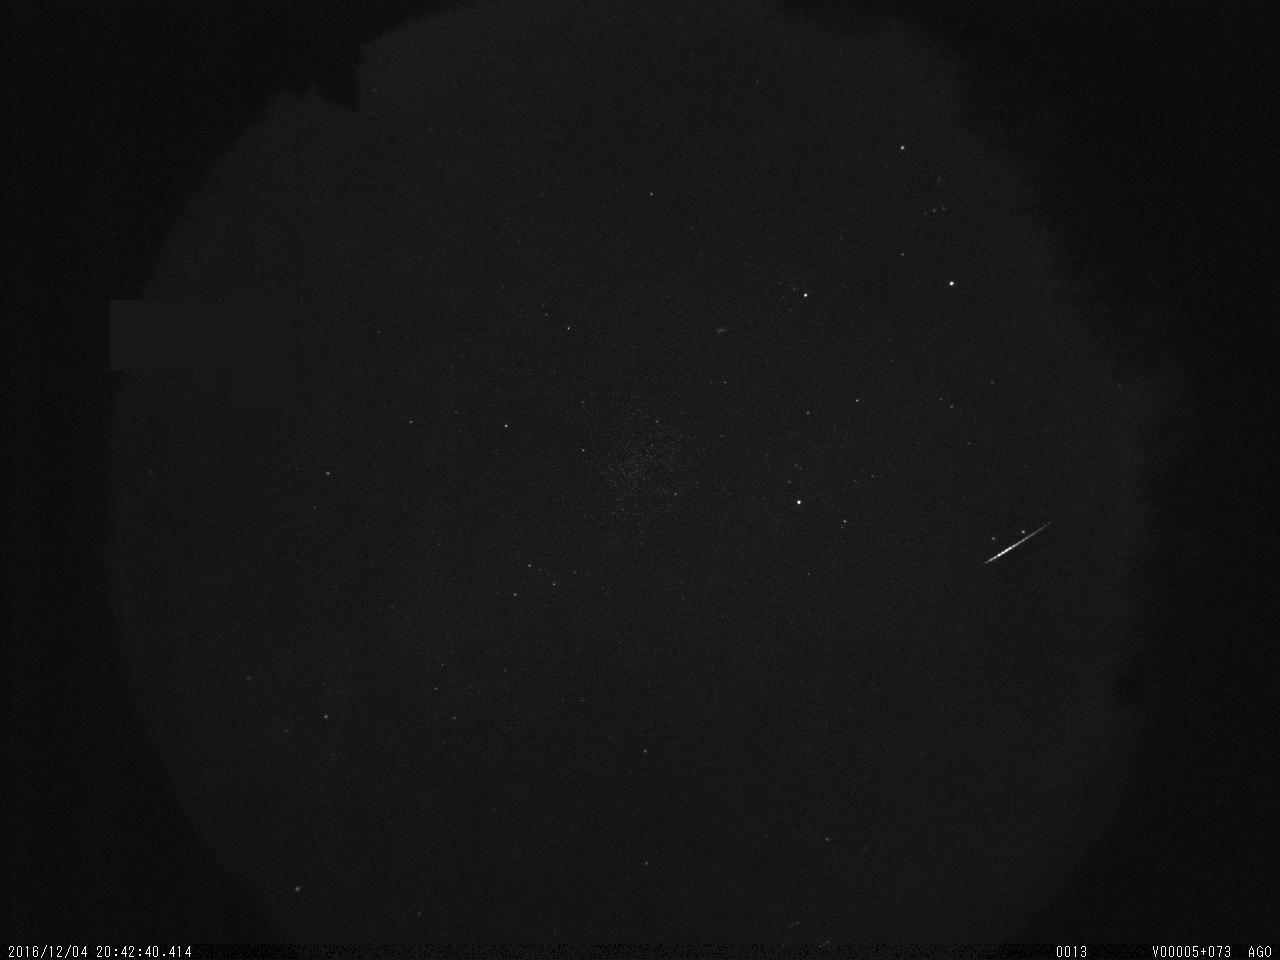meteor: (956, 494, 1077, 582)
